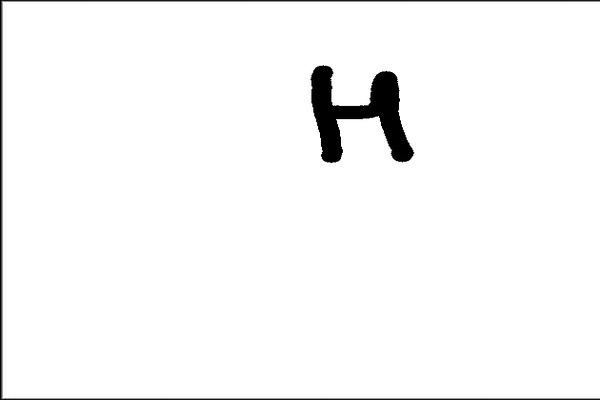H: (304, 59, 418, 167)
